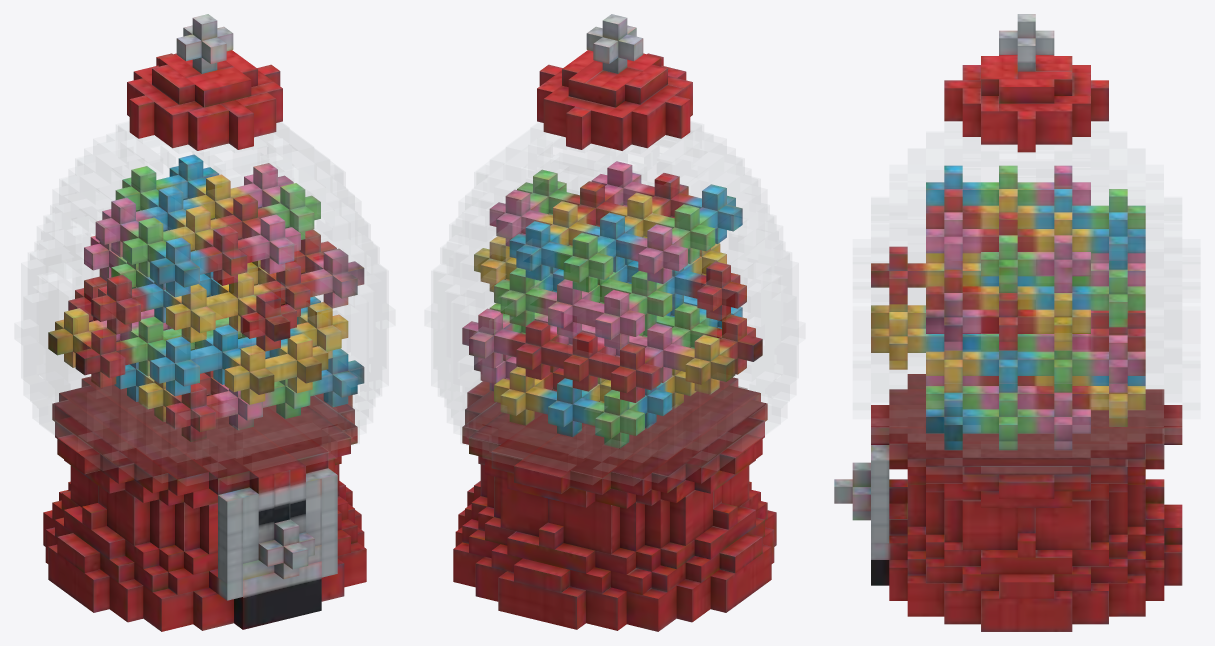
File: gumball-machine.glb
The picture shows the model from 3 angles, left to right: view 1: azimuth 30°, elevation 25°; view 2: azimuth 150°, elevation 25°; view 3: azimuth 270°, elevation 25°; orthographic projection.
Visible parts, largest first — view 1: Body.017, Glass.003; view 2: Body.017, Glass.003; view 3: Body.017, Glass.003.
Boxes of the visible parts, left/top/right/bottom form: Body.017: left=43, top=14, right=366, bottom=631; Glass.003: left=15, top=121, right=394, bottom=485; Body.017: left=453, top=14, right=776, bottom=631; Glass.003: left=425, top=121, right=804, bottom=485; Body.017: left=834, top=14, right=1182, bottom=631; Glass.003: left=853, top=122, right=1200, bottom=481.
Size of the model in its own units: 2.85 by 4.95 by 3.
2 materials, 1 textured.
